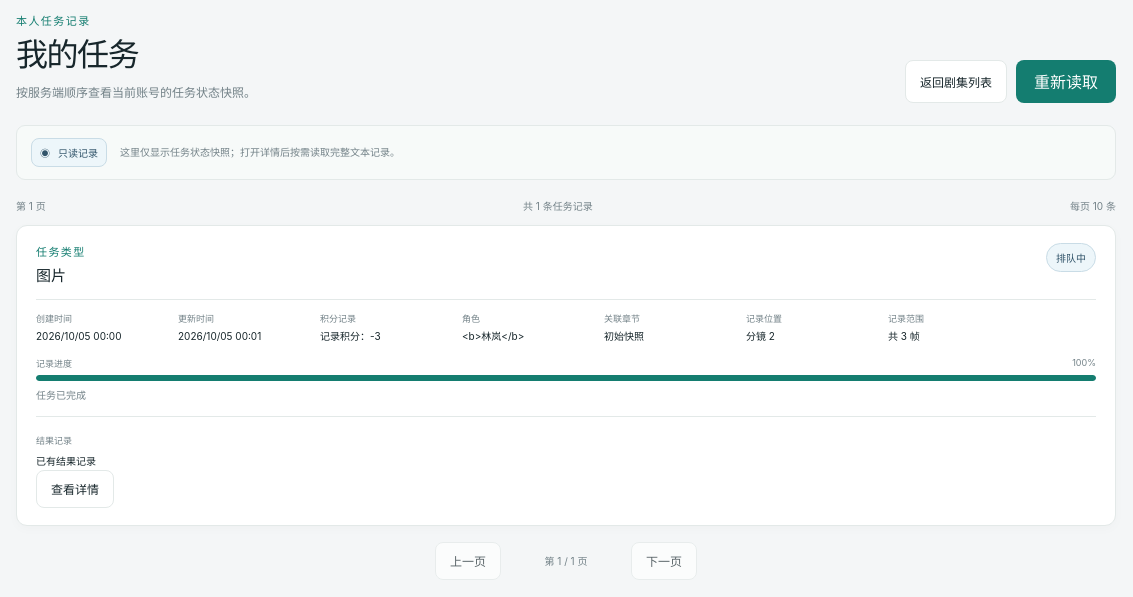
read-only task page › lets manual reread supersede an in-flight observation and ignores its late success
Click the button "重新读取". click: (1066, 81)
box: x1=1016 y1=60 x2=1116 y2=103
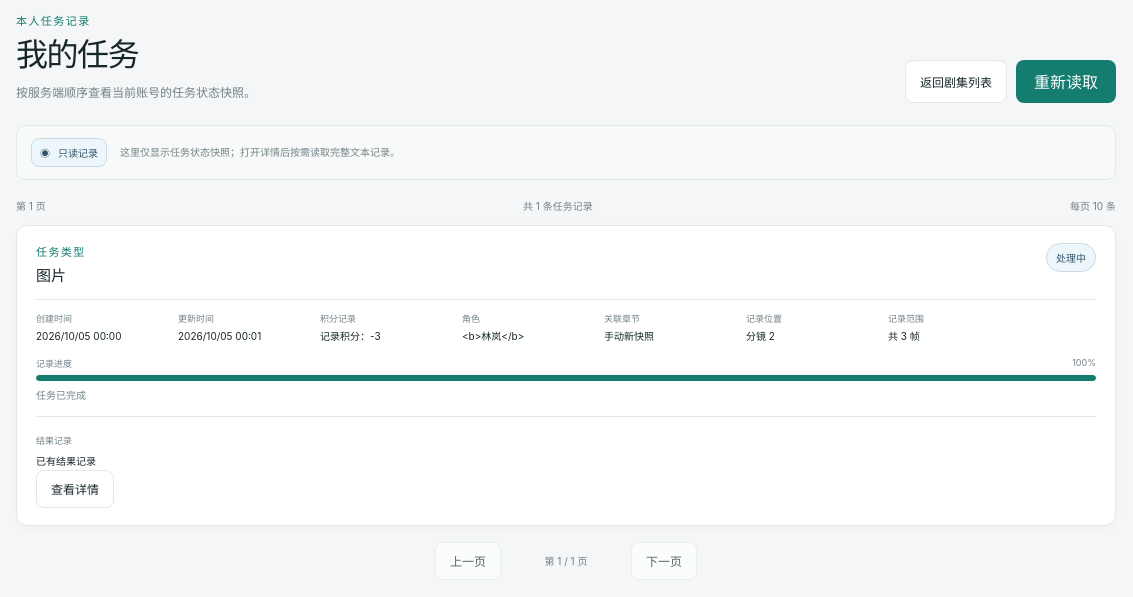
Expected: the text "手动新快照" is shown, x1=604 y1=330 x2=654 y2=342
